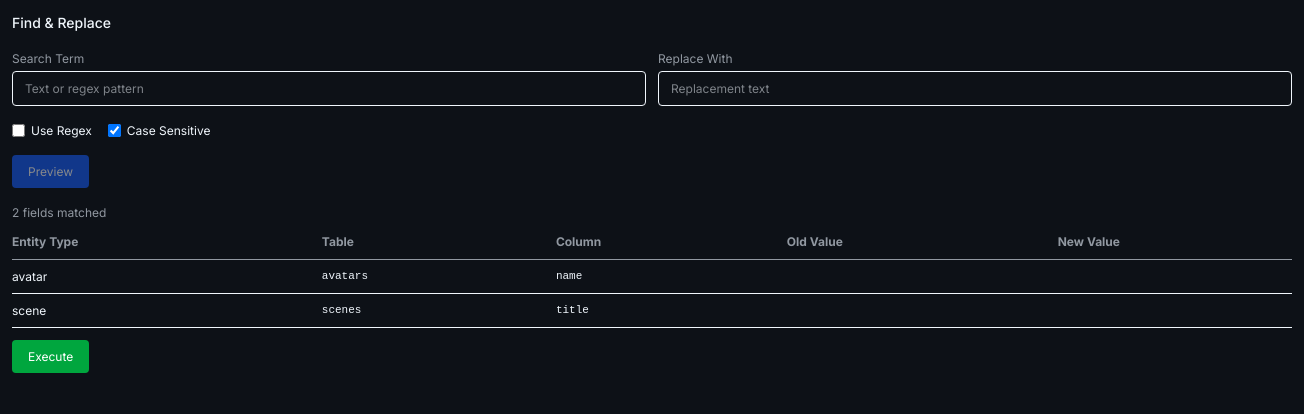
Test: FindReplacePanel › shows confirmation dialog when execute is clicked
Click the button with test id "execute-btn" at {"x": 51, "y": 356}, box top-left (12, 340), bottom-right (89, 373)
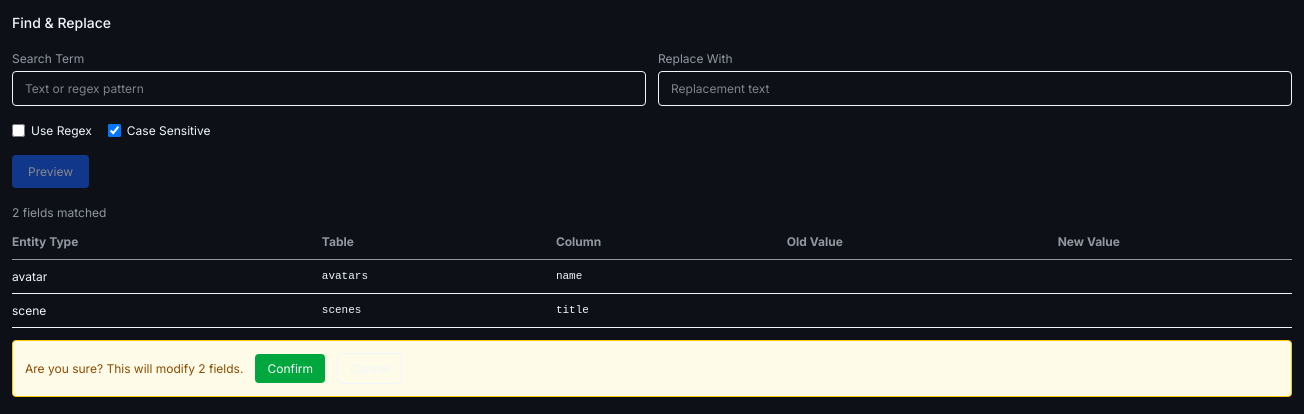
expect the element with test id "confirm-dialog" is shown: met, box top-left (12, 340), bottom-right (1292, 397)
expect the button with test id "confirm-execute-btn" is shown: met, box top-left (255, 354), bottom-right (325, 383)
